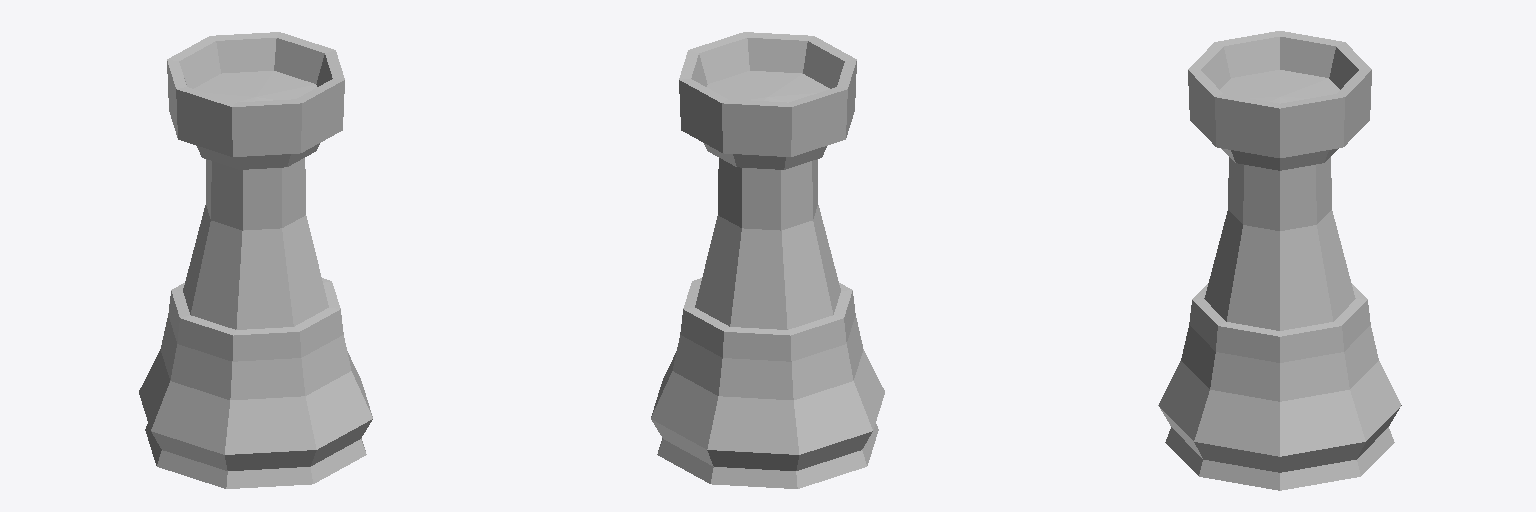
The model's file is rook.obj.
The picture shows the model from 3 angles: view 1: azimuth 30°, elevation 25°; view 2: azimuth 150°, elevation 25°; view 3: azimuth 270°, elevation 25°; orthographic projection.
Parts seen in each view (by area): view 1: default; view 2: default; view 3: default.
Part boxes in pixels (x1,y1,x2,y2): default: (139, 32, 372, 488); default: (651, 32, 884, 488); default: (1158, 31, 1401, 490).
Size of the model in its own units: 698 by 1182 by 698.